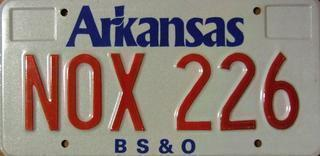placa de veiculo: (5, 3, 318, 153)
